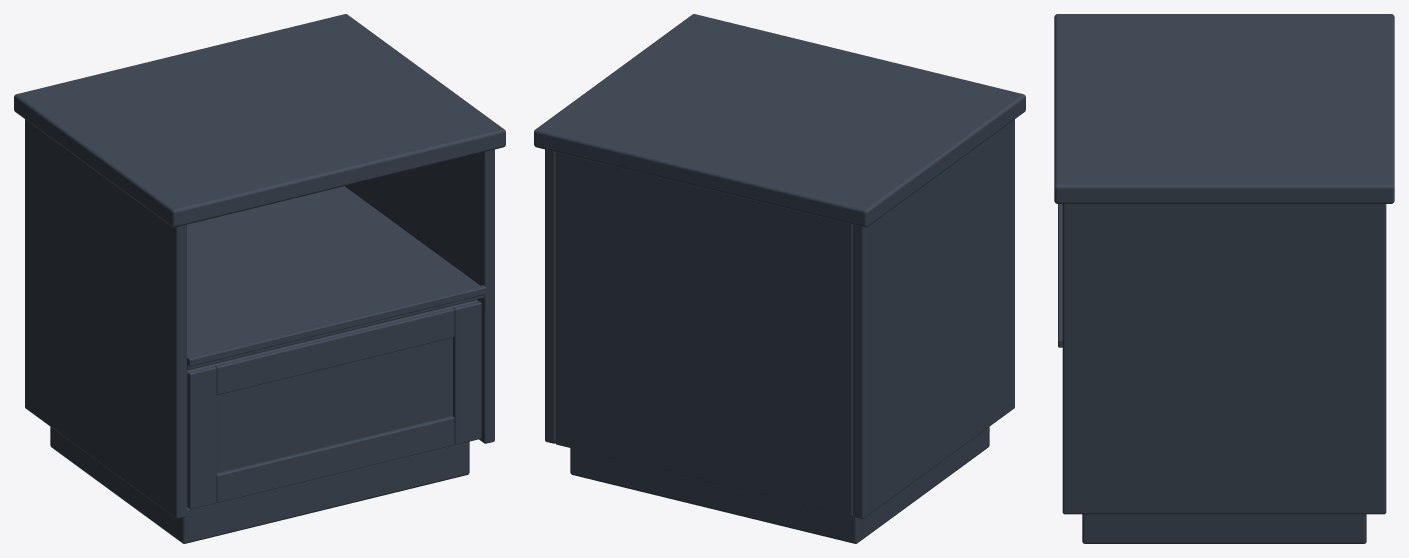
Rendered from tumba-01.glb.
The picture shows the model from 3 angles, left to right: view 1: azimuth 30°, elevation 25°; view 2: azimuth 150°, elevation 25°; view 3: azimuth 270°, elevation 25°; orthographic projection. The views are drawn at different scales.
Parts seen in each view (by area): view 1: top_slab, side_left, shelf, drawer_base, side_right, plinth, frame_rail_top, frame_rail_bottom, frame_stile_left, frame_stile_right, ledge; view 2: back, top_slab, side_left, plinth, side_right; view 3: side_right, top_slab, plinth, ledge.
Boxes of the visible parts, x1,y1,x2,y2 form: top_slab: [14, 14, 505, 227]; side_left: [25, 119, 186, 518]; shelf: [187, 186, 484, 369]; drawer_base: [187, 300, 478, 506]; side_right: [345, 149, 494, 443]; plinth: [50, 427, 469, 543]; frame_rail_top: [215, 308, 454, 394]; frame_rail_bottom: [216, 416, 454, 502]; frame_stile_left: [187, 366, 216, 509]; frame_stile_right: [453, 301, 481, 444]; ledge: [187, 285, 486, 366]; back: [555, 152, 853, 516]; top_slab: [534, 14, 1025, 227]; side_left: [853, 119, 1014, 518]; plinth: [570, 427, 989, 543]; side_right: [545, 149, 555, 443]; side_right: [1062, 204, 1386, 514]; top_slab: [1054, 14, 1394, 203]; plinth: [1082, 514, 1366, 543]; ledge: [1058, 204, 1062, 347].
Size of the model in its own units: 544 by 544 by 452.
